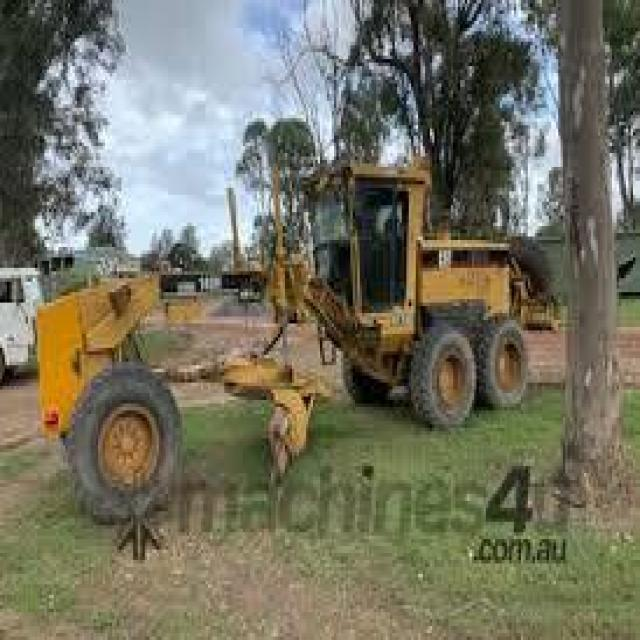Grader: (16, 104, 556, 567)
